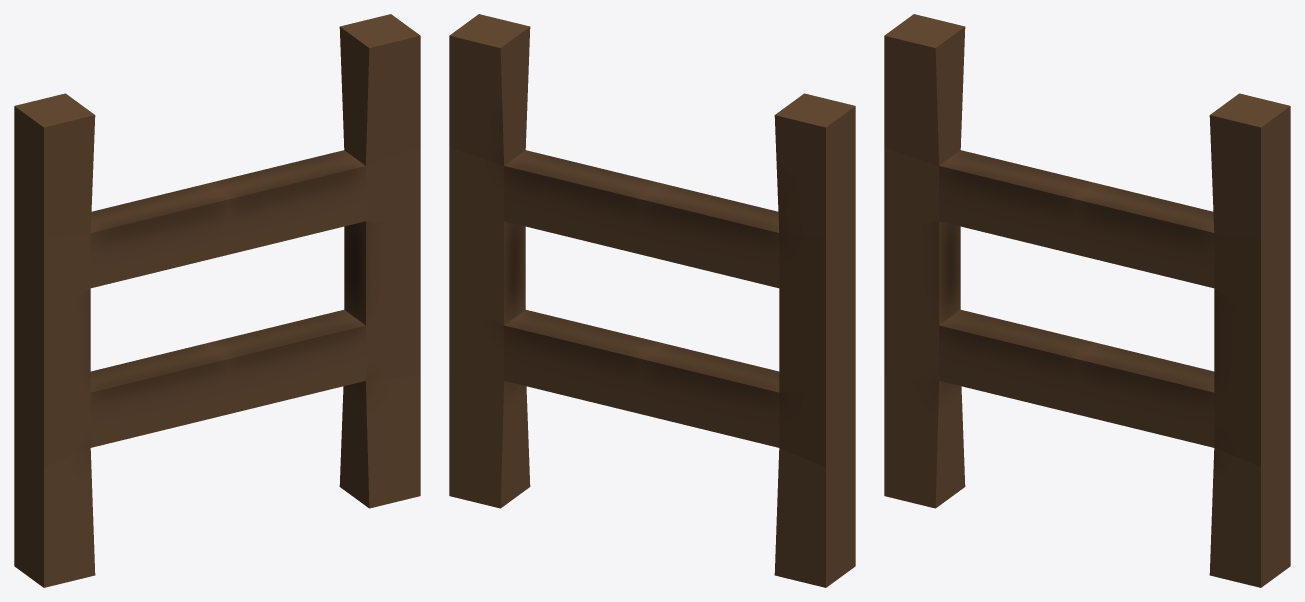
File: Ladder.fbx
3 renders of one model, left to right at view 1: azimuth 30°, elevation 25°; view 2: azimuth 150°, elevation 25°; view 3: azimuth 330°, elevation 25°, orthographic.
Visible parts, largest first — view 1: Cube; view 2: Cube; view 3: Cube.
Part boxes in pixels (x1,y1,x2,y2): Cube: [14, 14, 420, 587]; Cube: [449, 14, 855, 587]; Cube: [884, 14, 1290, 587].
Size of the model in its own units: 1468 by 1715 by 200.
